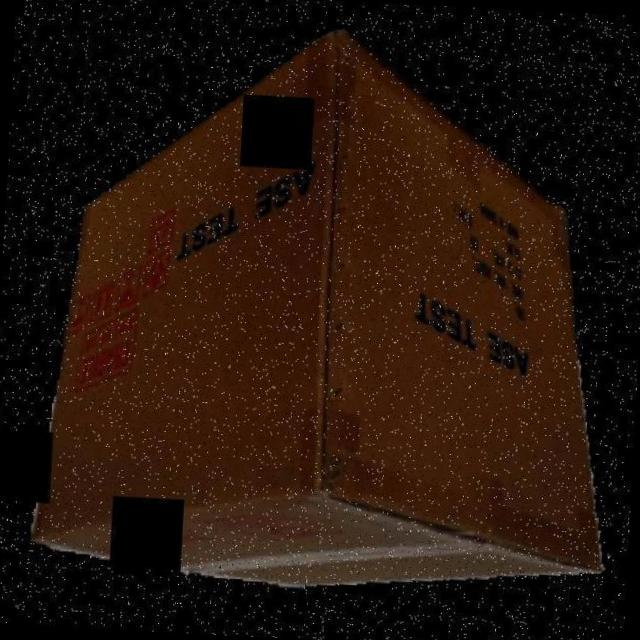box: (12, 10, 640, 622)
